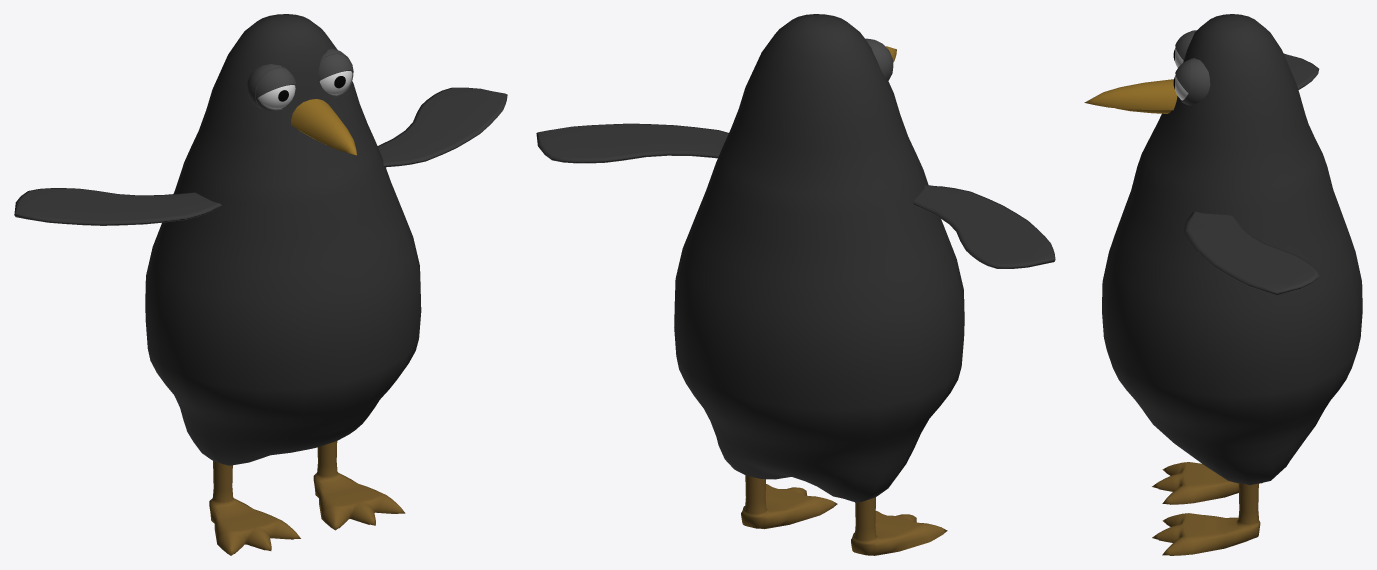
File: AA_King_Model_LS.fbx
The picture shows the model from 3 angles, left to right: view 1: azimuth 30°, elevation 25°; view 2: azimuth 150°, elevation 25°; view 3: azimuth 270°, elevation 25°; orthographic projection. The views are drawn at different scales.
Parts seen in each view (by area): view 1: Body, Wing_R, Wing_L, Foot_R, Foot_L, Beak_Upper, EyeLid_L5, EyeLid_L1; view 2: Body, Wing_R, Wing_L, Foot_R, Foot_L; view 3: Body, Wing_L, Foot_L, Foot_R, Beak_Upper, EyeLid_L, Wing_R, EyeLid_L1.
Part boxes in pixels (x1=…): Body: x1=145, y1=14, x2=421, y2=465; Wing_R: x1=14, y1=188, x2=221, y2=225; Wing_L: x1=377, y1=87, x2=507, y2=167; Foot_R: x1=209, y1=461, x2=300, y2=555; Foot_L: x1=313, y1=441, x2=405, y2=530; Beak_Upper: x1=291, y1=99, x2=356, y2=155; EyeLid_L5: x1=255, y1=67, x2=296, y2=97; EyeLid_L1: x1=318, y1=54, x2=353, y2=80; Body: x1=674, y1=14, x2=964, y2=502; Wing_R: x1=913, y1=185, x2=1055, y2=268; Wing_L: x1=536, y1=123, x2=728, y2=163; Foot_R: x1=851, y1=497, x2=947, y2=555; Foot_L: x1=741, y1=475, x2=837, y2=529; Body: x1=1102, y1=14, x2=1362, y2=485; Wing_L: x1=1184, y1=211, x2=1319, y2=295; Foot_L: x1=1152, y1=483, x2=1260, y2=555; Foot_R: x1=1152, y1=462, x2=1238, y2=504; Beak_Upper: x1=1084, y1=79, x2=1177, y2=110; EyeLid_L: x1=1189, y1=58, x2=1210, y2=105; Wing_R: x1=1283, y1=53, x2=1319, y2=89; EyeLid_L1: x1=1175, y1=59, x2=1190, y2=94.
Bounding box in the file's own units: 263 × 250 × 128.
